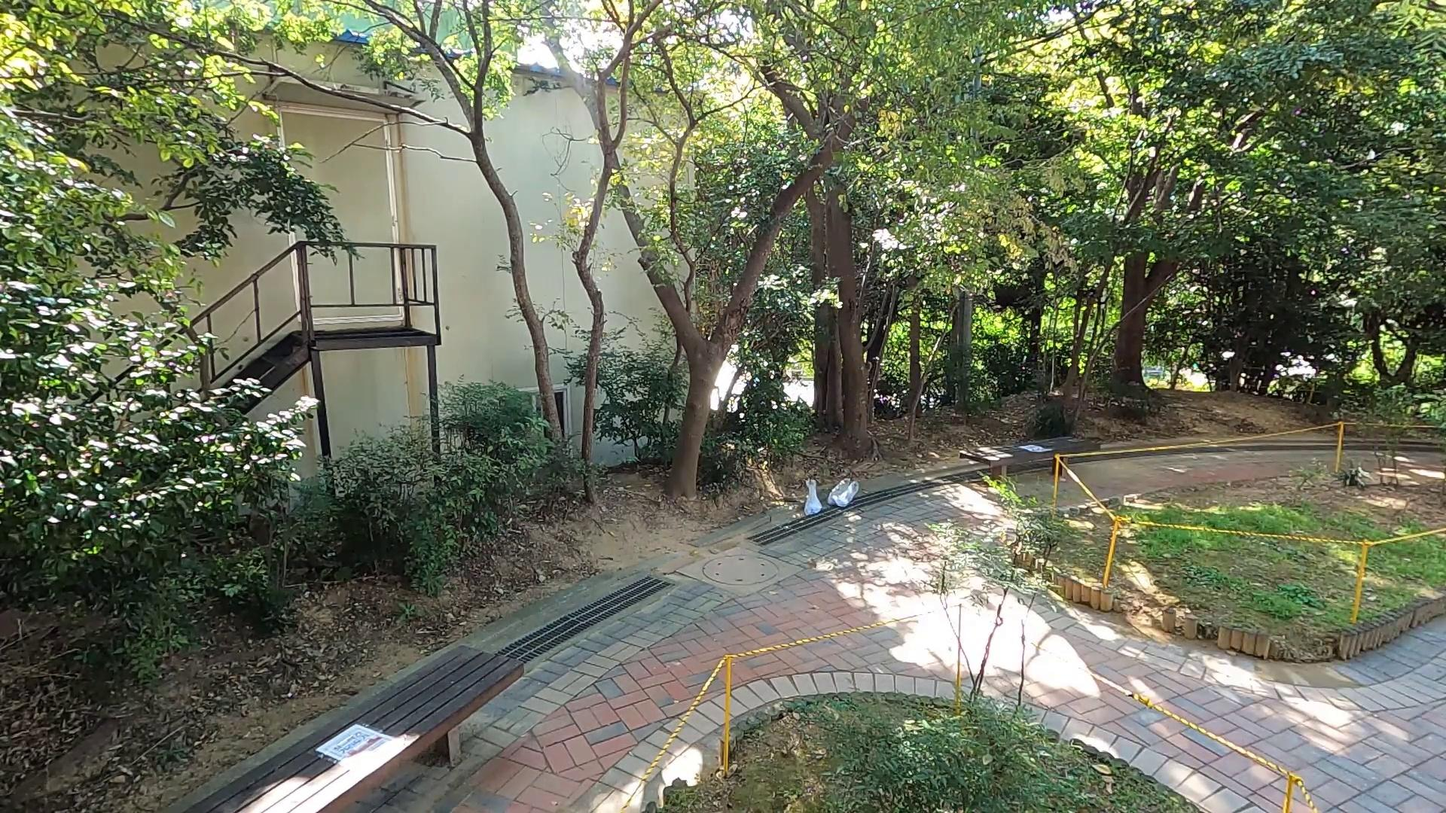trash: (827, 476, 861, 510), (803, 474, 822, 516)
